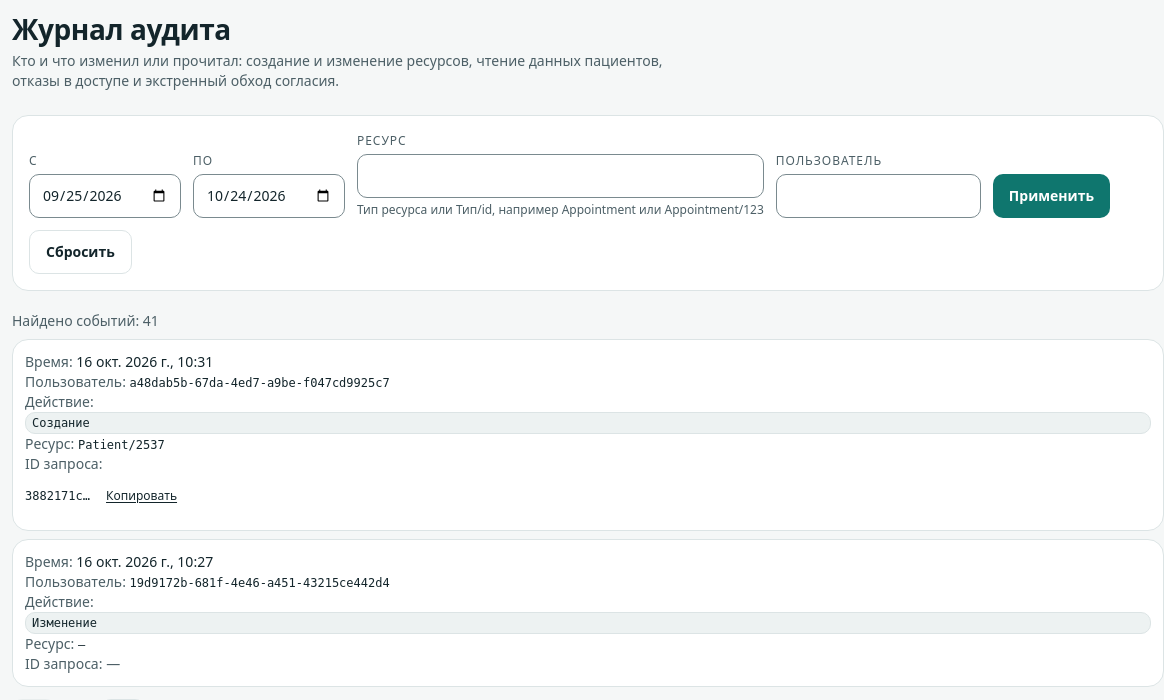
Test: AuditPanel › should refuse a malformed resource and send nothing when the filter is applied
The width and height of the screenshot is (1164, 700).
Expected: the text "Найдено событий: 41" is shown, [12, 311, 159, 330]
In the field labelled "Ресурс": (560, 176) [357, 154, 764, 198], type "appointment"
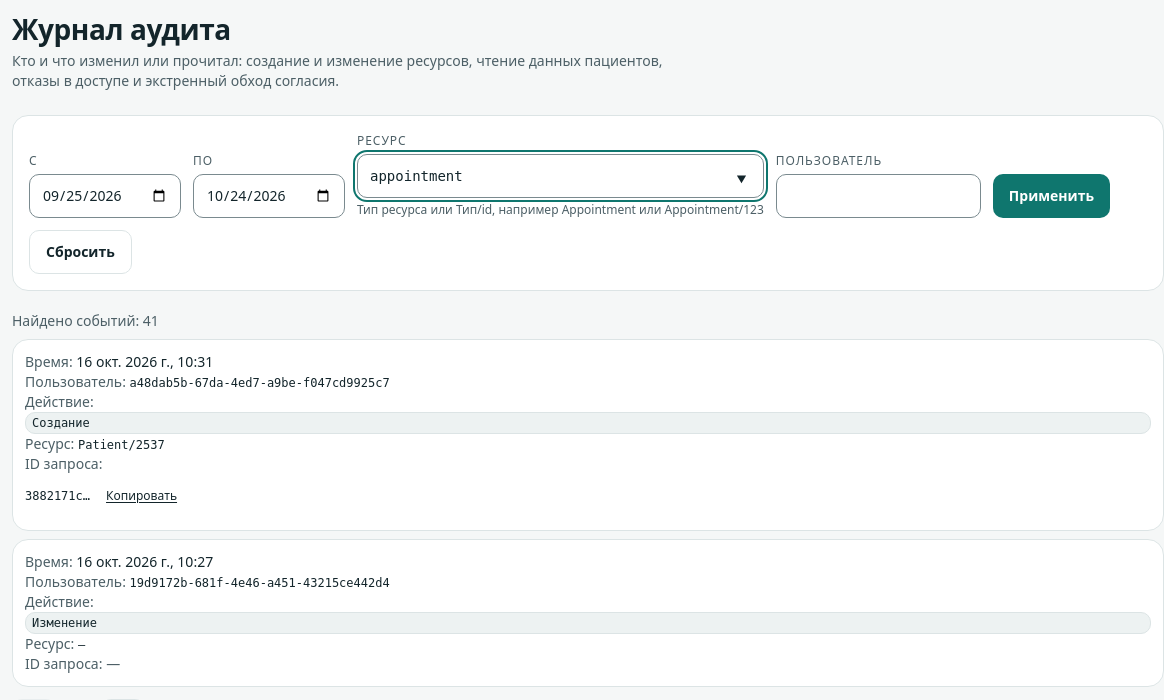
Click the button "Применить": (1051, 196) [993, 174, 1110, 218]
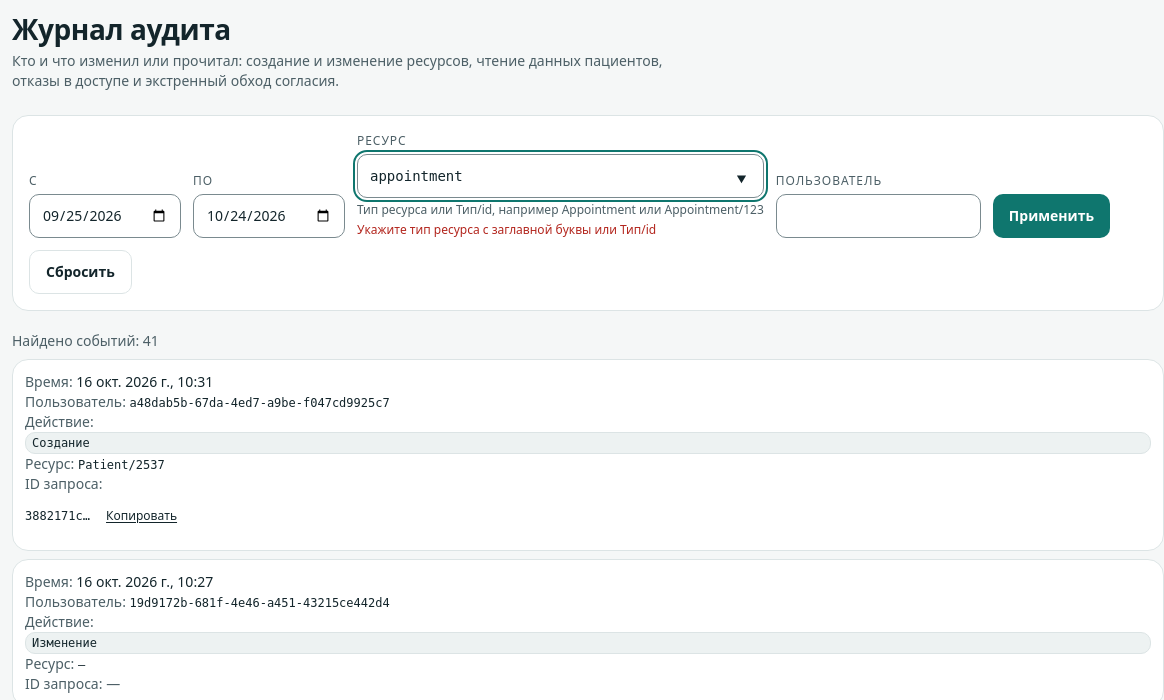
Expected: the text "Укажите тип ресурса с заглавной буквы или Тип/id" is shown, [357, 221, 656, 238]
